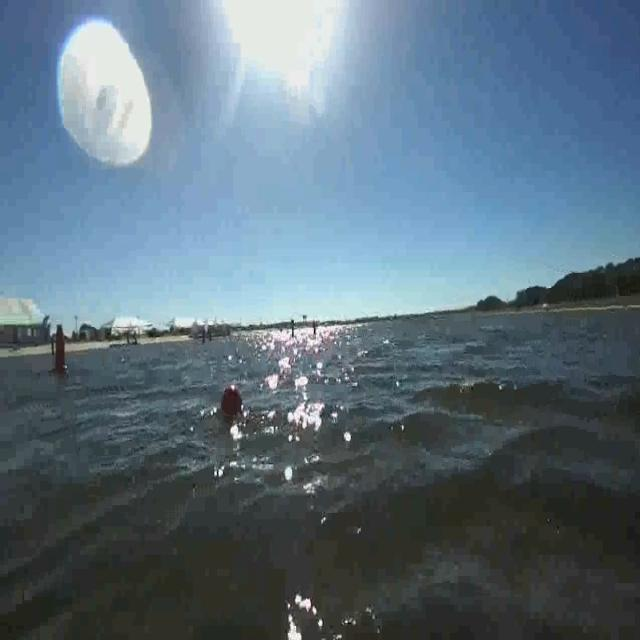red-buoy: (220, 384, 244, 416)
red-column-buoy: (51, 323, 70, 376)
